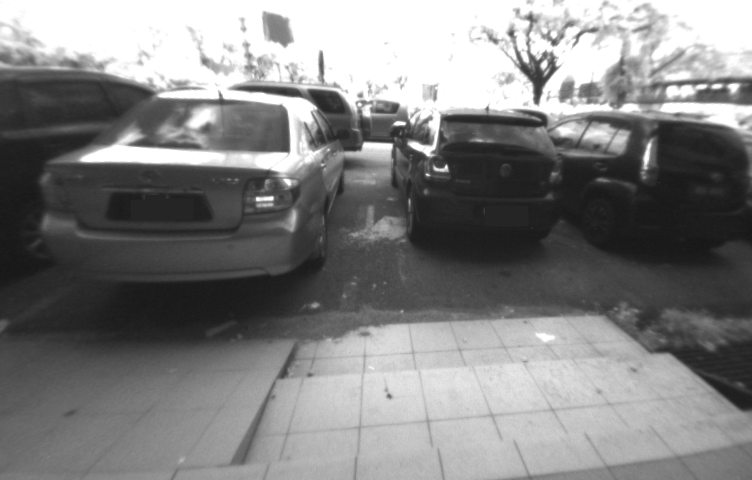down_steps: (239, 313, 744, 471)
mixed_gradient: (196, 328, 326, 475)
uncovered_drainage: (663, 322, 752, 423)
